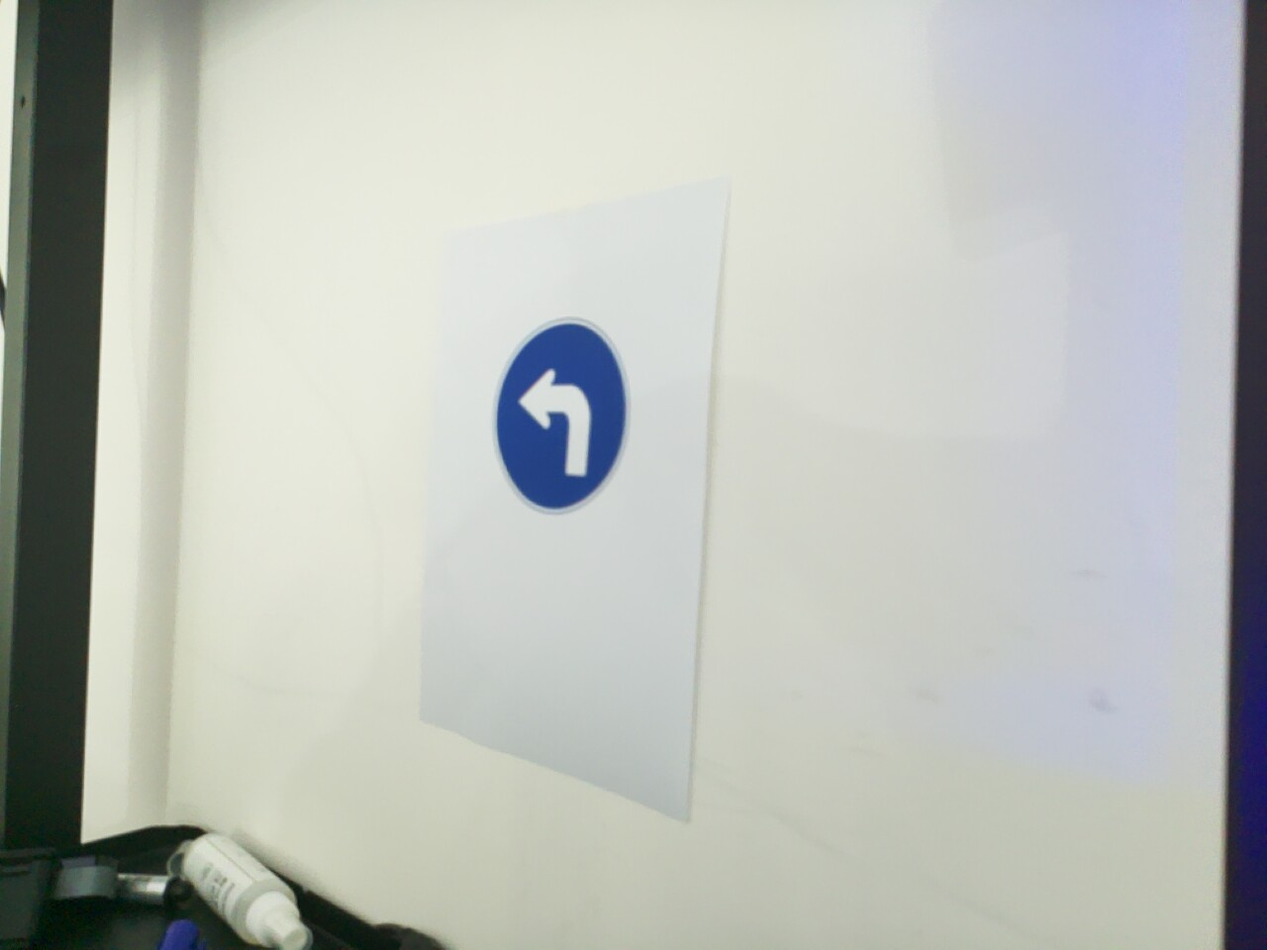left_turn: (491, 317, 633, 517)
